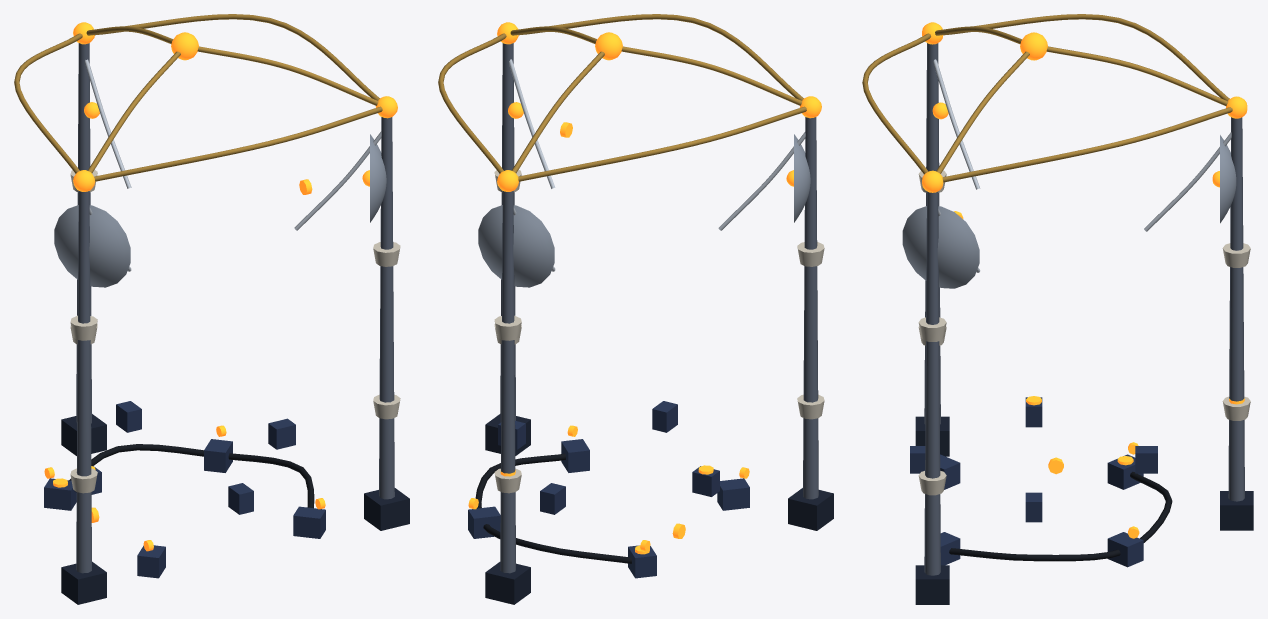
Rendered from tower_overclock_network_s10.glb.
The picture shows the model from 3 angles, left to right: view 1: azimuth 30°, elevation 25°; view 2: azimuth 150°, elevation 25°; view 3: azimuth 270°, elevation 25°; orthographic projection.
Parts seen in each view (by area): view 1: overclock_antenna2, overclock_antenna1, overclock_link_dish2, overclock_antenna0, overclock_lattice1, overclock_lattice0, overclock_relay_cable, overclock_antenna_foot2, overclock_antenna_foot1, overclock_lattice2, overclock_lattice_in1, overclock_antenna_foot0 (+13 smaller); view 2: overclock_antenna0, overclock_antenna2, overclock_link_dish0, overclock_antenna1, overclock_lattice2, overclock_lattice1, overclock_relay_cable, overclock_antenna_foot0, overclock_antenna_foot2, overclock_lattice0, overclock_lattice_in2, overclock_link_dish2 (+13 smaller); view 3: overclock_antenna1, overclock_antenna0, overclock_link_dish1, overclock_antenna2, overclock_relay_cable, overclock_lattice0, overclock_lattice2, overclock_antenna_foot1, overclock_antenna_foot0, overclock_lattice1, overclock_lattice_in0, overclock_link_dish0 (+12 smaller).
Boxes of the visible parts, bbox=[...] form: overclock_antenna2: bbox=[76, 191, 91, 573]; overclock_antenna1: bbox=[379, 117, 394, 499]; overclock_link_dish2: bbox=[54, 205, 130, 287]; overclock_antenna0: bbox=[76, 43, 91, 423]; overclock_lattice1: bbox=[94, 106, 382, 181]; overclock_lattice0: bbox=[94, 14, 379, 100]; overclock_relay_cable: bbox=[69, 444, 314, 508]; overclock_antenna_foot2: bbox=[61, 561, 106, 604]; overclock_antenna_foot1: bbox=[364, 488, 409, 530]; overclock_lattice2: bbox=[14, 33, 82, 173]; overclock_lattice_in1: bbox=[197, 46, 378, 105]; overclock_antenna_foot0: bbox=[61, 414, 106, 455]; overclock_antenna0: bbox=[500, 191, 515, 573]; overclock_antenna2: bbox=[803, 117, 818, 499]; overclock_link_dish0: bbox=[478, 205, 554, 287]; overclock_antenna1: bbox=[500, 43, 515, 422]; overclock_lattice2: bbox=[518, 106, 806, 181]; overclock_lattice1: bbox=[518, 14, 803, 100]; overclock_relay_cable: bbox=[475, 453, 631, 563]; overclock_antenna_foot0: bbox=[485, 562, 530, 604]; overclock_antenna_foot2: bbox=[788, 488, 833, 530]; overclock_lattice0: bbox=[438, 33, 506, 173]; overclock_lattice_in2: bbox=[621, 46, 802, 105]; overclock_link_dish2: bbox=[794, 134, 810, 222]; overclock_antenna1: bbox=[924, 191, 940, 575]; overclock_antenna0: bbox=[1228, 117, 1244, 501]; overclock_link_dish1: bbox=[902, 206, 979, 288]; overclock_antenna2: bbox=[924, 43, 940, 424]; overclock_relay_cable: bbox=[949, 471, 1172, 561]; overclock_lattice0: bbox=[942, 107, 1232, 182]; overclock_lattice2: bbox=[943, 14, 1229, 100]; overclock_antenna_foot1: bbox=[915, 565, 949, 604]; overclock_antenna_foot0: bbox=[1220, 491, 1253, 530]; overclock_lattice1: bbox=[862, 33, 930, 174]; overclock_lattice_in0: bbox=[1046, 46, 1228, 106]; overclock_link_dish0: bbox=[1220, 135, 1236, 223].
Bounding box in the file's own units: 1.37 × 1.92 × 1.39.
